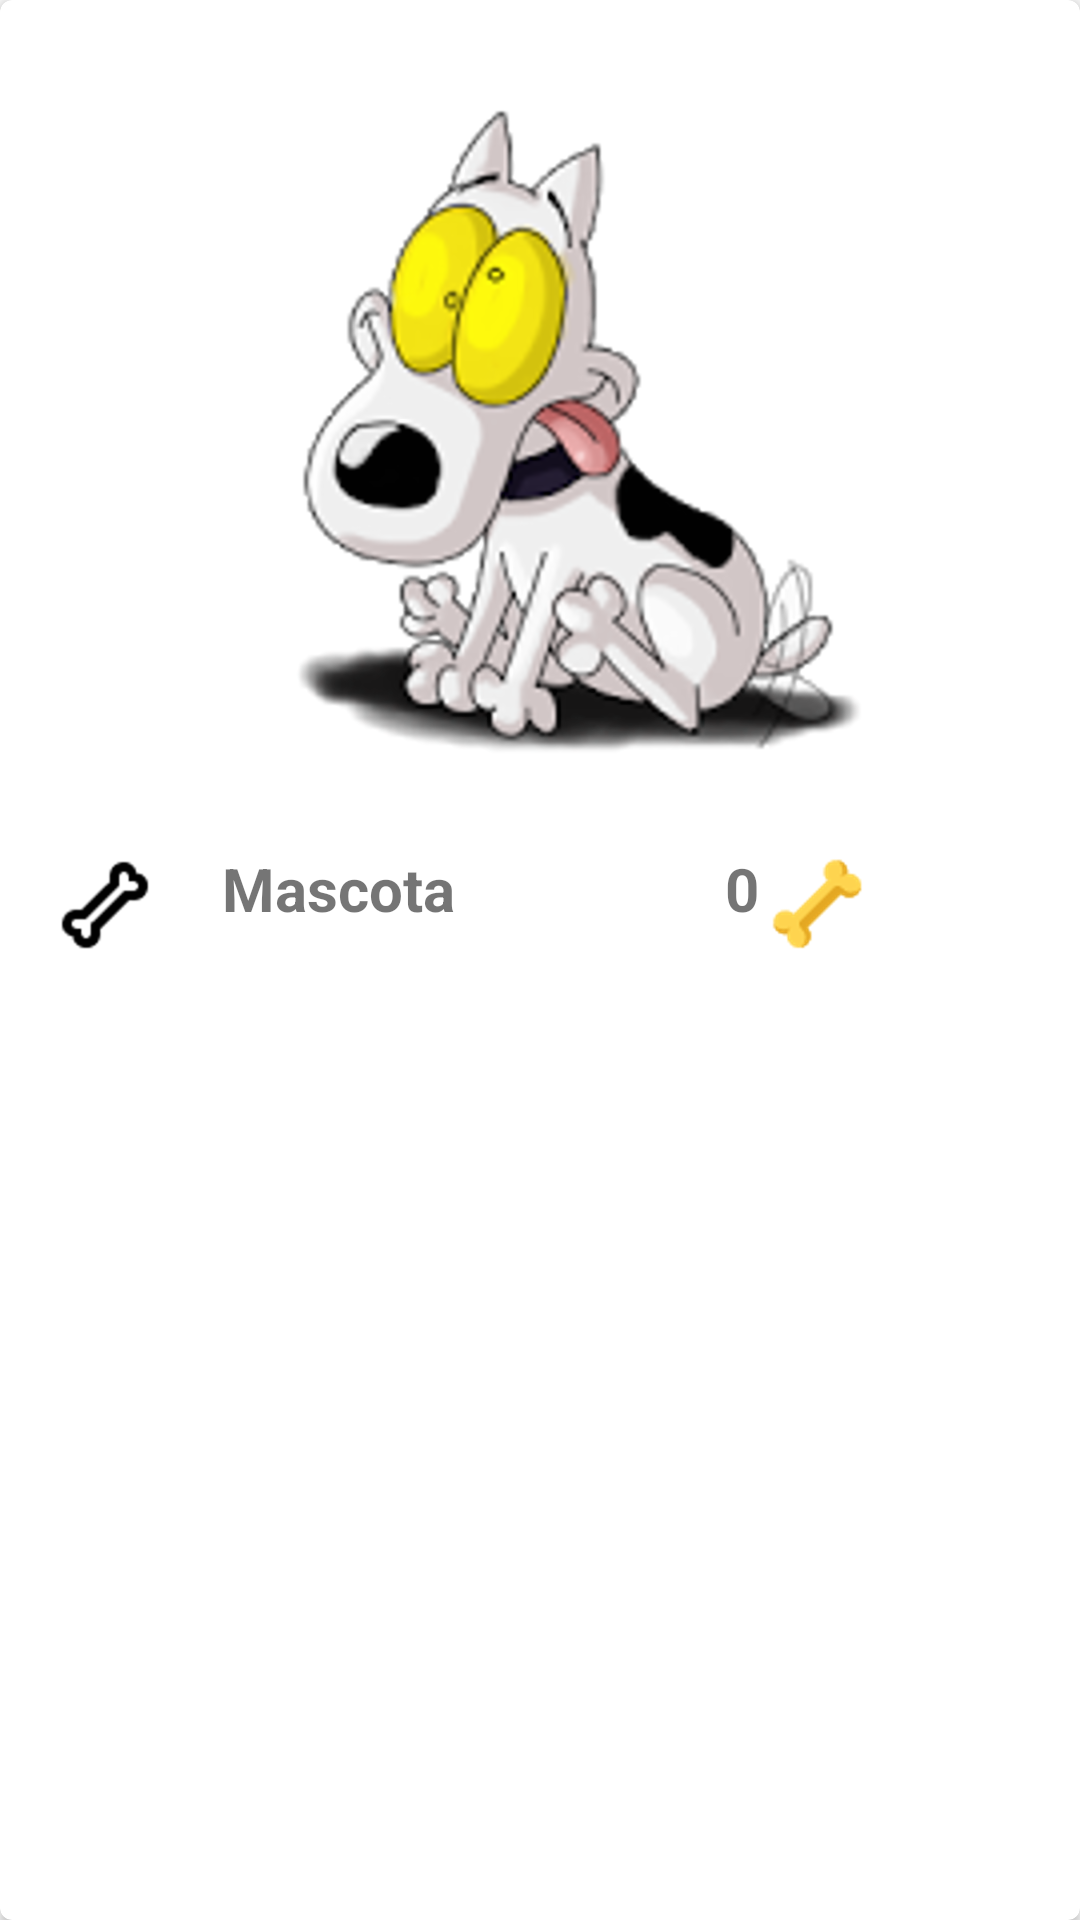

Icon click points for this 1080*1920 phone screenshot, format (x=x, y=y):
bone: (x=817, y=904), (x=105, y=905)
